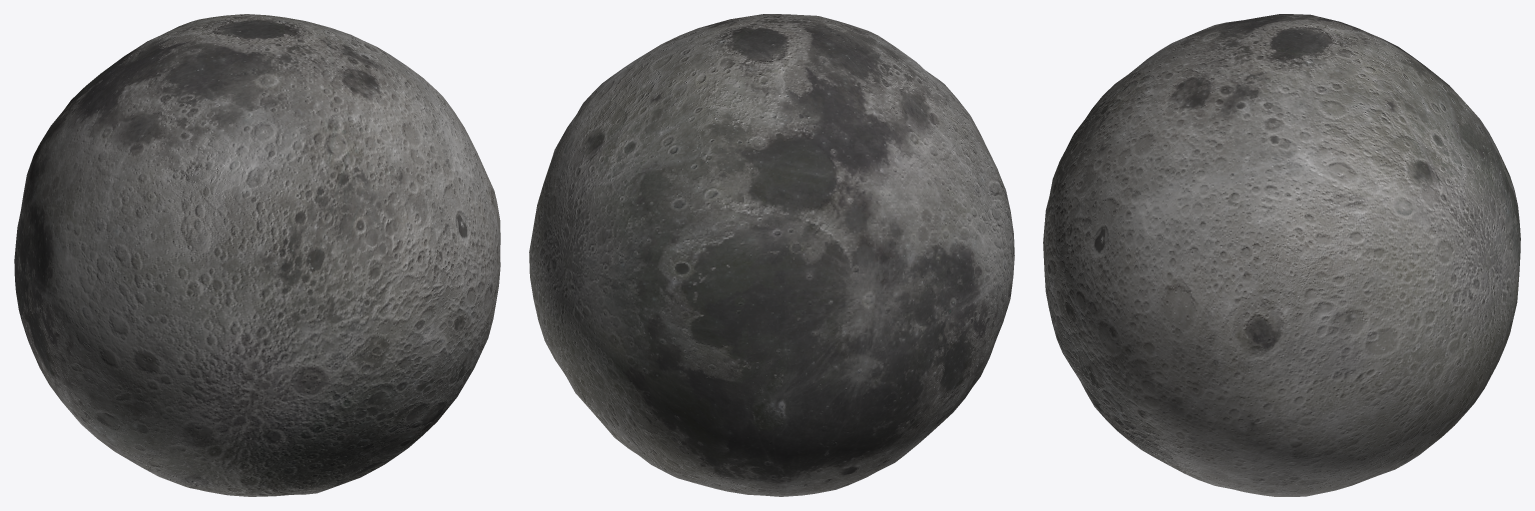
The model's file is Moon.glb.
The picture shows the model from 3 angles, left to right: view 1: azimuth 30°, elevation 25°; view 2: azimuth 150°, elevation 25°; view 3: azimuth 270°, elevation 25°; orthographic projection.
Visible parts, largest first — view 1: Moon; view 2: Moon; view 3: Moon.
Boxes of the visible parts, x1=… form: Moon: x1=14, y1=14, x2=500, y2=496; Moon: x1=529, y1=14, x2=1014, y2=496; Moon: x1=1043, y1=14, x2=1520, y2=496.
Bounding box in the file's own units: 3.45 × 3.48 × 3.44.
Materials: 1 (1 with a texture image).
